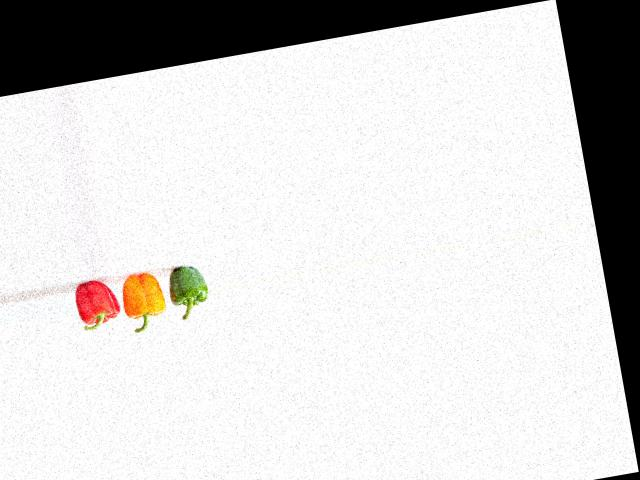bell_pepper: (70, 277, 125, 342)
